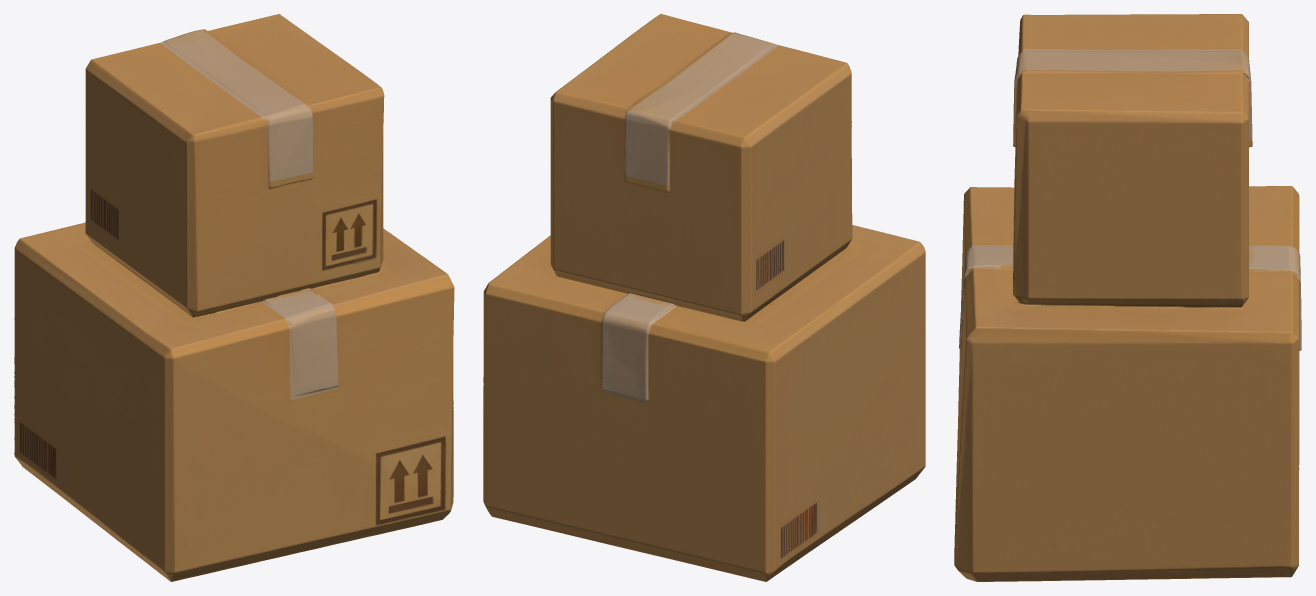
File: cardboard box 3d model.glb
3 views of the same model, side by side, from view 1: azimuth 30°, elevation 25°; view 2: azimuth 150°, elevation 25°; view 3: azimuth 270°, elevation 25° (orthographic). The views are drawn at different scales.
Parts seen in each view (by area): view 1: tripo_node_4f72d211-8c5a-4ee6-a159-c9d0dd903204; view 2: tripo_node_4f72d211-8c5a-4ee6-a159-c9d0dd903204; view 3: tripo_node_4f72d211-8c5a-4ee6-a159-c9d0dd903204.
Part boxes in pixels (x1,y1,x2,y2): tripo_node_4f72d211-8c5a-4ee6-a159-c9d0dd903204: [14, 14, 454, 581]; tripo_node_4f72d211-8c5a-4ee6-a159-c9d0dd903204: [483, 14, 925, 581]; tripo_node_4f72d211-8c5a-4ee6-a159-c9d0dd903204: [954, 14, 1301, 581].
Size of the model in its own units: 0.7199 by 1 by 0.6974.
Materials: 1 (1 with a texture image).
